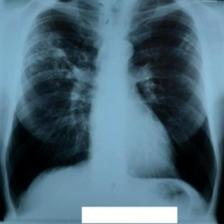tuberculosis: (4, 2, 217, 214)
